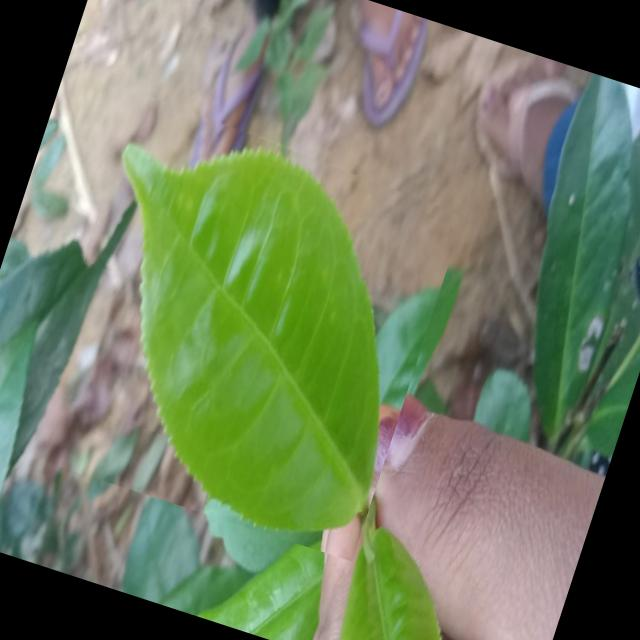Category B(2-4 days): (20, 90, 470, 560)
